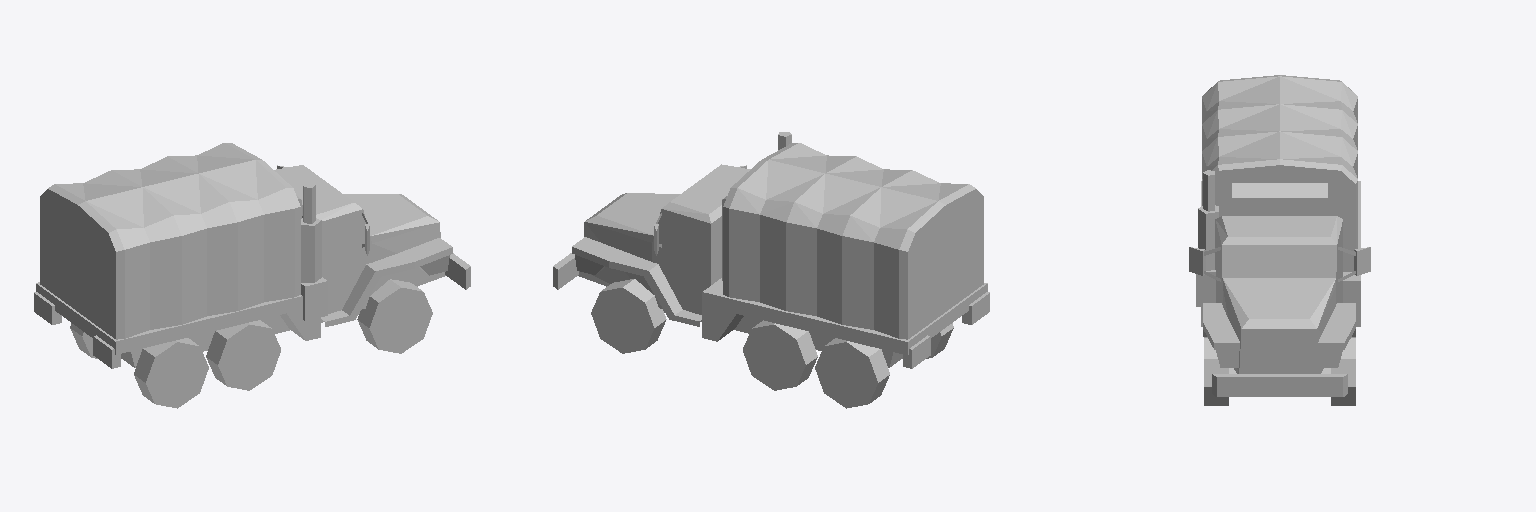
Rendered from truck.obj.
3 renders of one model, left to right at view 1: azimuth 30°, elevation 25°; view 2: azimuth 150°, elevation 25°; view 3: azimuth 270°, elevation 25°, orthographic.
Parts seen in each view (by area): view 1: Truck; view 2: Truck; view 3: Truck.
Part boxes in pixels (x1,y1,x2,y2): Truck: (34,143,470,408); Truck: (553,132,989,408); Truck: (1189,75,1370,405).
Bounding box in the file's own units: 5.09 × 2.56 × 2.18.